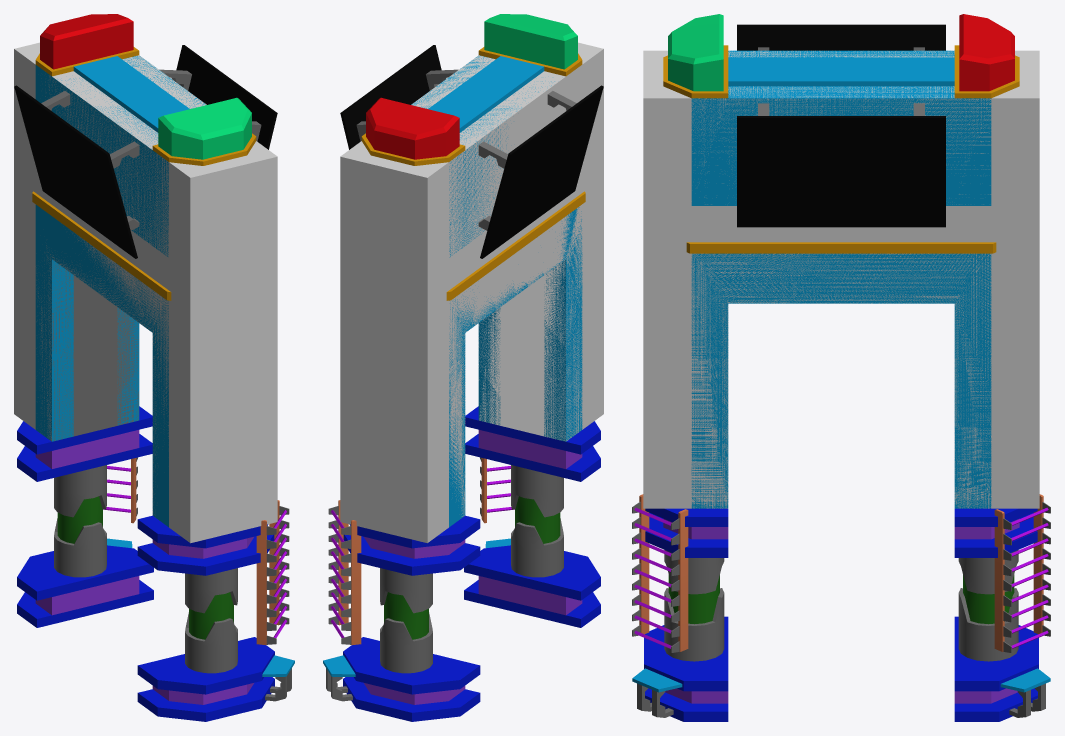
The model's file is BT_Gate_A_01.fbx.
The picture shows the model from 3 angles, left to right: view 1: azimuth 30°, elevation 25°; view 2: azimuth 150°, elevation 25°; view 3: azimuth 270°, elevation 25°; orthographic projection. The views are drawn at different scales.
Parts seen in each view (by area): view 1: BT_Gate_A_01, Gate_Collder; view 2: BT_Gate_A_01, Gate_Collder; view 3: BT_Gate_A_01, Gate_Collder.
Part boxes in pixels (box(x1,y1,x2,y2)): BT_Gate_A_01: box(14, 14, 294, 721); Gate_Collder: box(14, 42, 277, 543); BT_Gate_A_01: box(323, 14, 603, 721); Gate_Collder: box(340, 42, 603, 543); BT_Gate_A_01: box(632, 14, 1050, 721); Gate_Collder: box(643, 50, 1039, 508).
Bounding box in the file's own units: 195 × 639 × 370.
